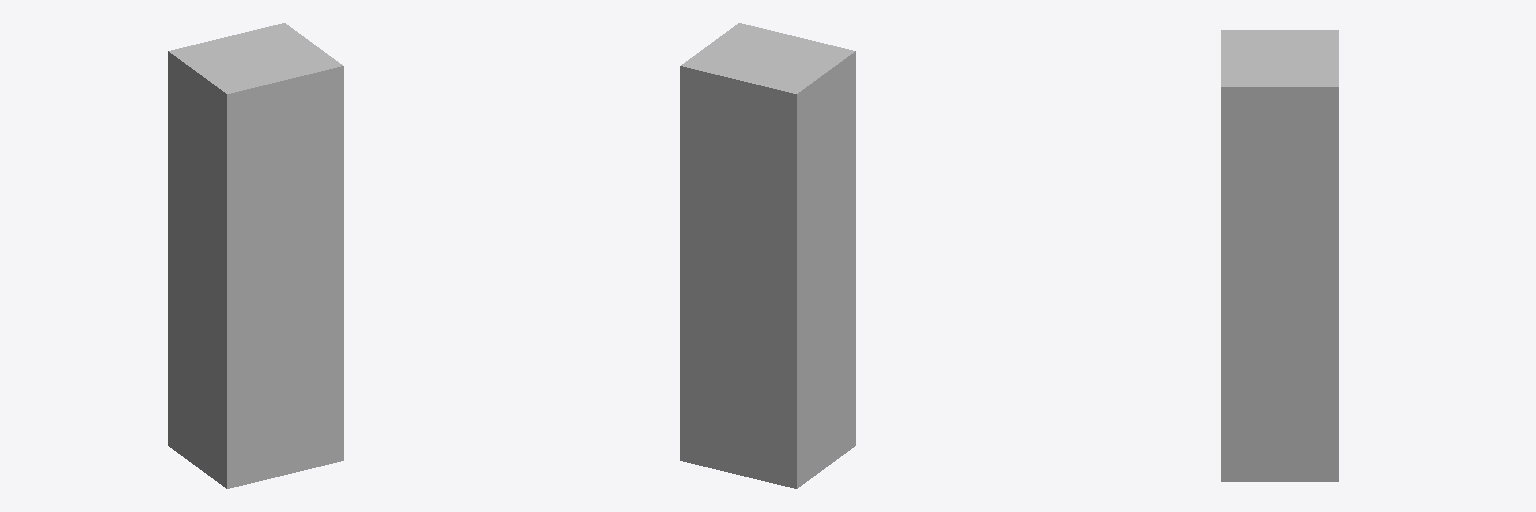
Rendered from bigI.obj.
The picture shows the model from 3 angles: view 1: azimuth 30°, elevation 25°; view 2: azimuth 150°, elevation 25°; view 3: azimuth 270°, elevation 25°; orthographic projection.
Visible parts, largest first — view 1: pasted__I2; view 2: pasted__I2; view 3: pasted__I2.
Boxes of the visible parts, x1,y1,x2,y2 form: pasted__I2: [168, 23, 343, 488]; pasted__I2: [680, 23, 855, 488]; pasted__I2: [1221, 30, 1338, 481].
Size of the model in its own units: 0.7171 by 2.32 by 0.6289.